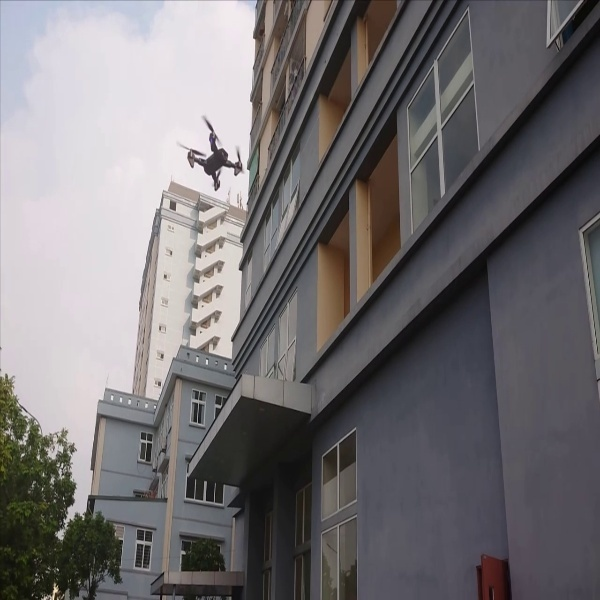drone: (174, 113, 247, 199)
